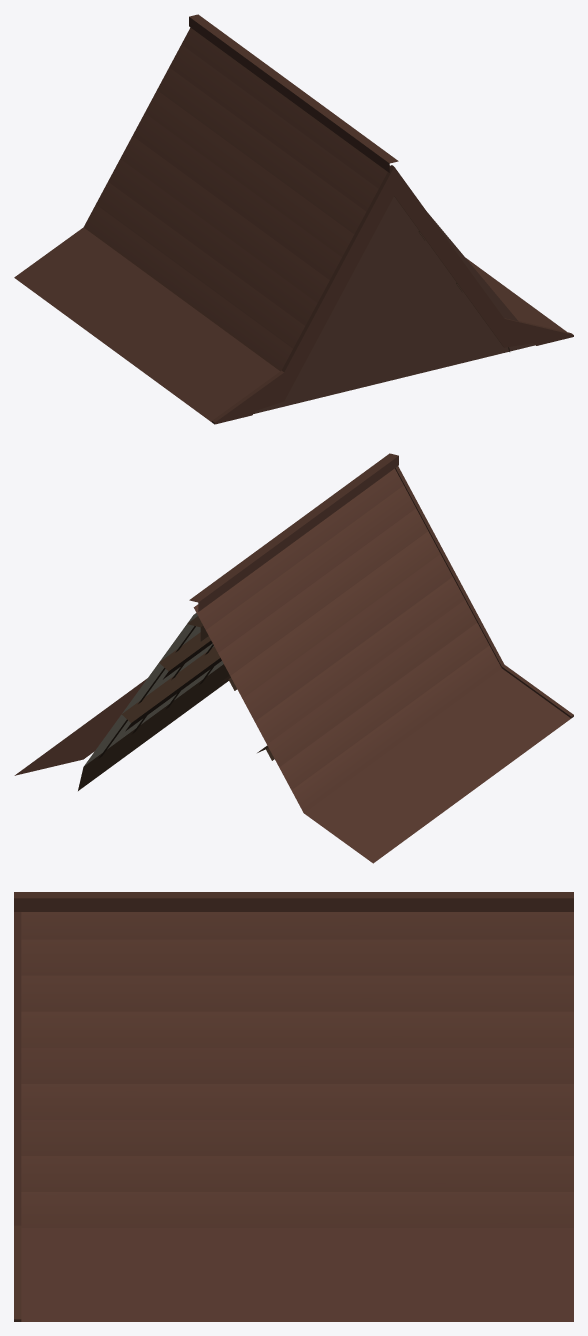
The model's file is roof.gable_swept.plain.glb.
The picture shows the model from 3 angles, top to bottom: view 1: azimuth 30°, elevation 25°; view 2: azimuth 150°, elevation 25°; view 3: azimuth 270°, elevation 25°; orthographic projection. The views are drawn at different scales.
Visible parts, largest first — view 1: roof_gable_swept_plain; view 2: roof_gable_swept_plain; view 3: roof_gable_swept_plain.
Part boxes in pixels (<box>): roof_gable_swept_plain: <box>14,14,573,424</box>; roof_gable_swept_plain: <box>14,453,573,863</box>; roof_gable_swept_plain: <box>14,892,573,1321</box>.
Size of what is drawn, in the model's own units: 6.2 by 3.6 by 6.
